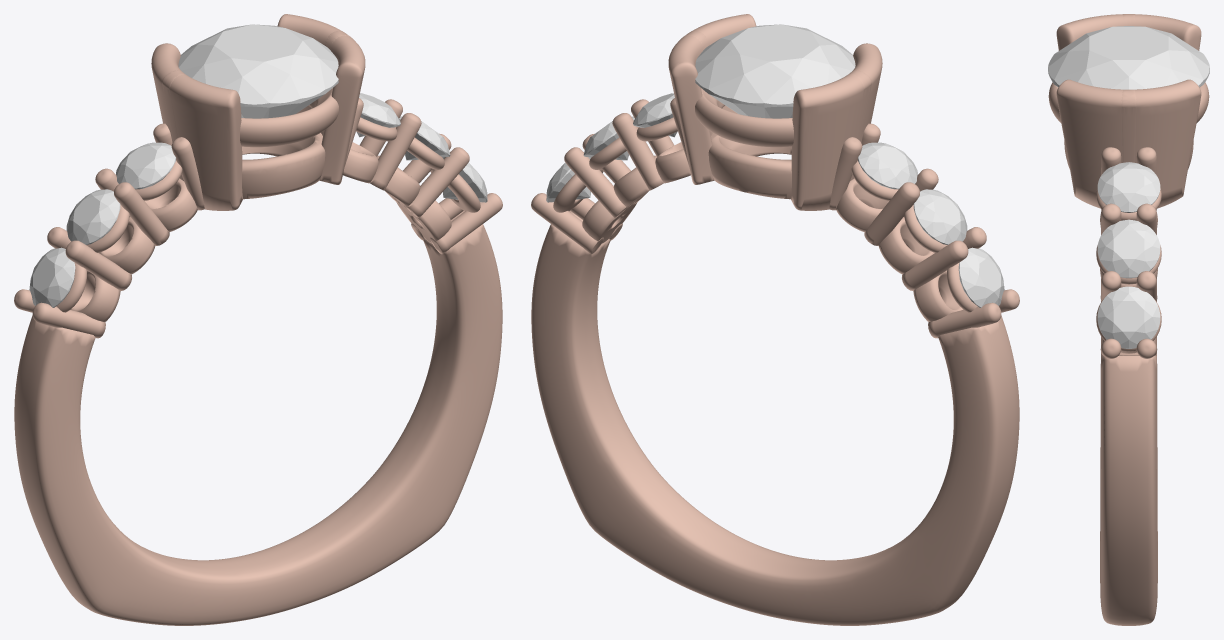
The model's file is diamond-round-rosegold-halfmoonbezel-europeanshank-3stone.glb.
3 renders of one model, left to right at view 1: azimuth 30°, elevation 25°; view 2: azimuth 150°, elevation 25°; view 3: azimuth 270°, elevation 25°, orthographic. The views are drawn at different scales.
Parts seen in each view (by area): view 1: metal, stone, side.004, side.005, side.003, side, side.001, side.002; view 2: metal, stone, side.004, side.005, side.003, side, side.001, side.002; view 3: metal, stone, side.002, side.001, side.
Boxes of the visible parts, x1=… form: metal: x1=14, y1=14, x2=502, y2=625; stone: x1=178, y1=24, x2=338, y2=118; side.004: x1=66, y1=189, x2=120, y2=244; side.005: x1=29, y1=247, x2=75, y2=307; side.003: x1=116, y1=142, x2=175, y2=189; side: x1=356, y1=93, x2=400, y2=137; side.001: x1=399, y1=116, x2=450, y2=160; side.002: x1=443, y1=157, x2=487, y2=202; metal: x1=531, y1=14, x2=1019, y2=625; stone: x1=695, y1=24, x2=855, y2=118; side.004: x1=913, y1=189, x2=967, y2=244; side.005: x1=958, y1=247, x2=1004, y2=307; side.003: x1=858, y1=142, x2=917, y2=189; side: x1=633, y1=93, x2=677, y2=137; side.001: x1=583, y1=116, x2=634, y2=160; side.002: x1=546, y1=157, x2=590, y2=202; metal: x1=1048, y1=14, x2=1209, y2=625; stone: x1=1048, y1=26, x2=1209, y2=89; side.002: x1=1097, y1=286, x2=1160, y2=348; side.001: x1=1097, y1=219, x2=1160, y2=278; side: x1=1097, y1=162, x2=1160, y2=212.
Bounding box in the file's own units: 20.71 × 23.81 × 6.44.
